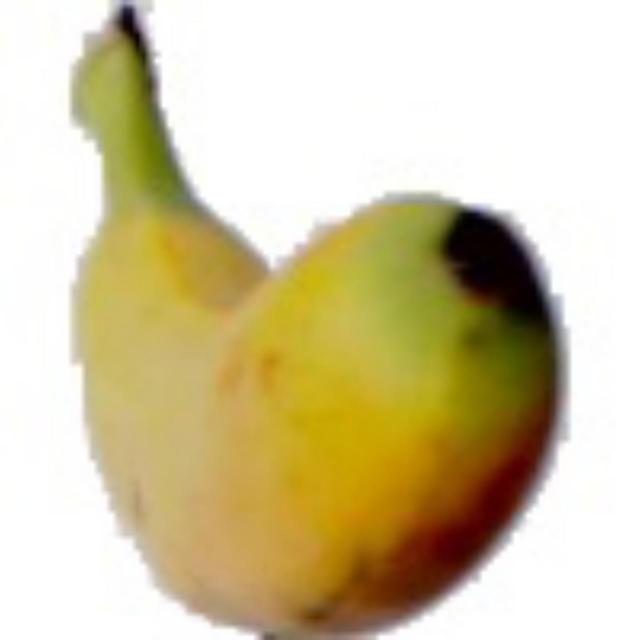banana: (18, 1, 640, 640)
